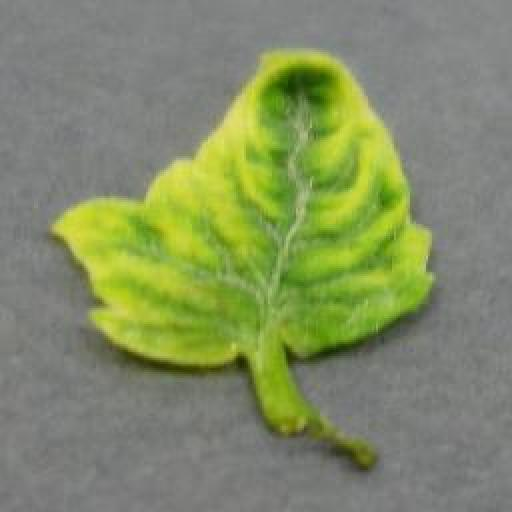Yellow Leaf Curl Virus: (52, 40, 435, 371)
